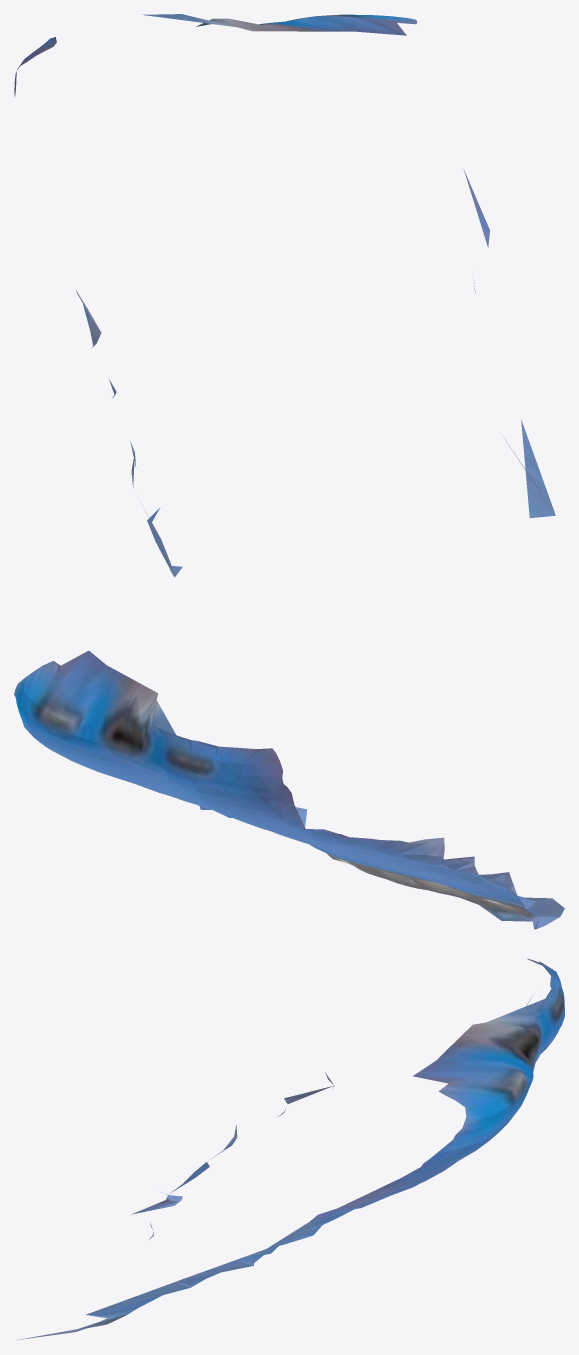
File: observed-surface.glb
The picture shows the model from 3 angles, top to bottom: view 1: azimuth 30°, elevation 25°; view 2: azimuth 150°, elevation 25°; view 3: azimuth 270°, elevation 25°; orthographic projection. The views are drawn at different scales.
Parts seen in each view (by area): view 1: geometry_0; view 2: geometry_0; view 3: geometry_0.
Part boxes in pixels (bbox=[...]): geometry_0: bbox=[14, 14, 555, 577]; geometry_0: bbox=[14, 650, 564, 929]; geometry_0: bbox=[16, 958, 564, 1340].
Size of the model in its own units: 0.4326 by 0.347 by 0.5523.
1 material, 1 textured.
